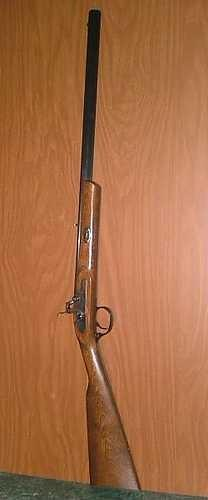heavyweapon: (72, 1, 140, 500)
